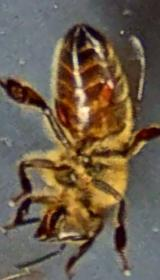varroa_mite: (46, 92, 74, 134), (94, 72, 120, 98)
